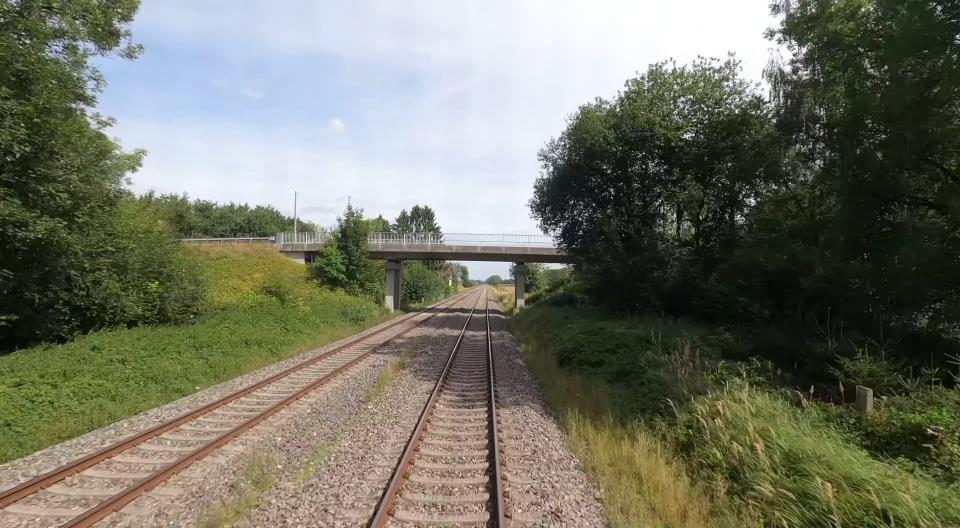Plant: (196, 450, 276, 528), (364, 349, 416, 402)
